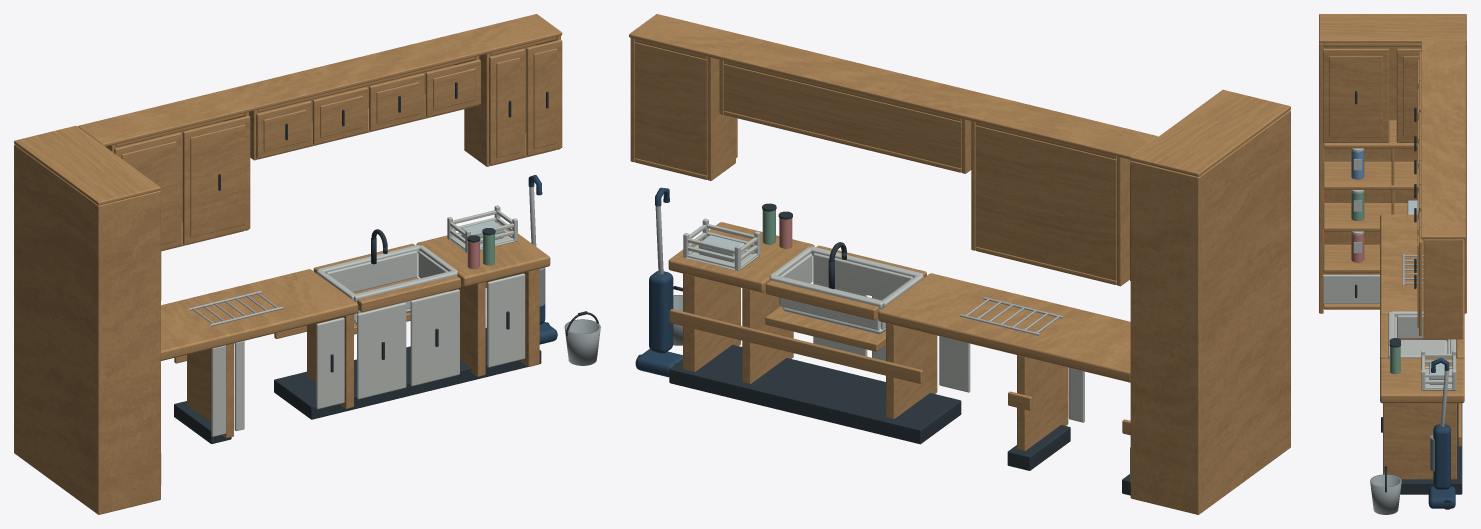
Rendered from c18_laundry_service_original.glb.
3 renders of one model, left to right at view 1: azimuth 30°, elevation 25°; view 2: azimuth 150°, elevation 25°; view 3: azimuth 270°, elevation 25°, orthographic. The views are drawn at different scales.
Parts seen in each view (by area): view 1: C18_Runtime_C18_madeira_clara_mel_Wood026, C18_Runtime_C18_branco_quente_acetinado, C18_Runtime_C18_ferragem_grafite, C18_Runtime_C18_ceramica_acetinada, C18_Runtime_C18_plastico_cinza, C18_Runtime_C18_inox_escovado; view 2: C18_Runtime_C18_madeira_clara_mel_Wood026, C18_Runtime_C18_ferragem_grafite, C18_Runtime_C18_ceramica_acetinada, C18_Runtime_C18_branco_quente_acetinado, C18_Runtime_C18_aspirador_navy_fosco, C18_Runtime_C18_inox_escovado; view 3: C18_Runtime_C18_madeira_clara_mel_Wood026, C18_Runtime_C18_branco_quente_acetinado, C18_Runtime_C18_ceramica_acetinada, C18_Runtime_C18_aspirador_navy_fosco, C18_Runtime_C18_ferragem_grafite, C18_Runtime_C18_plastico_cinza, C18_Runtime_C18_produto_verde_suave, C18_Runtime_C18_inox_escovado, C18_Runtime_C18_algodao_dobrado, C18_Runtime_C18_produto_coral_suave, C18_Runtime_C18_produto_azul_suave.
Part boxes in pixels (x1,y1,x2,y2): C18_Runtime_C18_madeira_clara_mel_Wood026: (14, 14, 562, 514); C18_Runtime_C18_branco_quente_acetinado: (161, 205, 525, 484); C18_Runtime_C18_ferragem_grafite: (174, 82, 598, 443); C18_Runtime_C18_ceramica_acetinada: (317, 244, 457, 324); C18_Runtime_C18_plastico_cinza: (539, 267, 600, 365); C18_Runtime_C18_inox_escovado: (188, 187, 536, 326); C18_Runtime_C18_madeira_clara_mel_Wood026: (629, 14, 1290, 514); C18_Runtime_C18_ferragem_grafite: (669, 203, 1130, 495); C18_Runtime_C18_ceramica_acetinada: (769, 246, 923, 334); C18_Runtime_C18_branco_quente_acetinado: (683, 218, 1130, 482); C18_Runtime_C18_aspirador_navy_fosco: (635, 187, 682, 377); C18_Runtime_C18_inox_escovado: (655, 206, 1063, 335); C18_Runtime_C18_madeira_clara_mel_Wood026: (1319, 14, 1466, 479); C18_Runtime_C18_branco_quente_acetinado: (1323, 148, 1456, 390); C18_Runtime_C18_ceramica_acetinada: (1388, 311, 1456, 358); C18_Runtime_C18_aspirador_navy_fosco: (1428, 358, 1455, 508); C18_Runtime_C18_ferragem_grafite: (1355, 91, 1462, 494); C18_Runtime_C18_plastico_cinza: (1370, 434, 1434, 514); C18_Runtime_C18_produto_verde_suave: (1351, 191, 1400, 374); C18_Runtime_C18_inox_escovado: (1402, 253, 1448, 426); C18_Runtime_C18_algodao_dobrado: (1407, 200, 1444, 384); C18_Runtime_C18_produto_coral_suave: (1351, 233, 1364, 262); C18_Runtime_C18_produto_azul_suave: (1351, 150, 1364, 179).
Bounding box in the file's own units: 4.63 × 2.57 × 1.26.
Materials: 12 (1 with a texture image).
